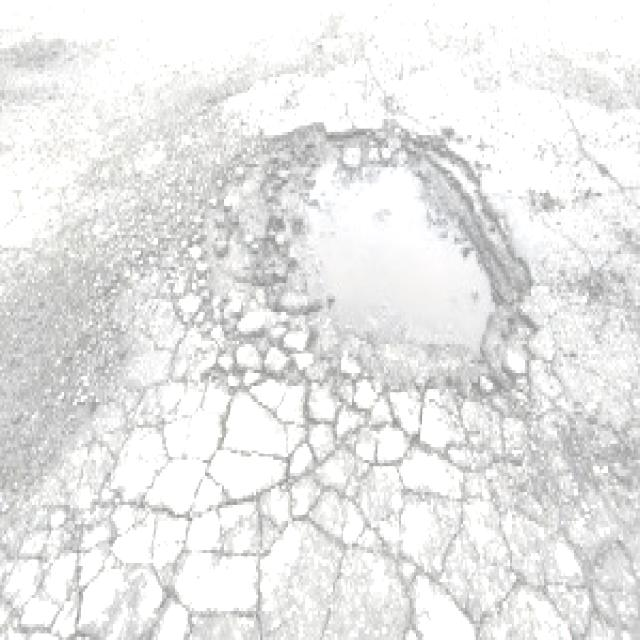Pothole: (248, 111, 542, 427)
